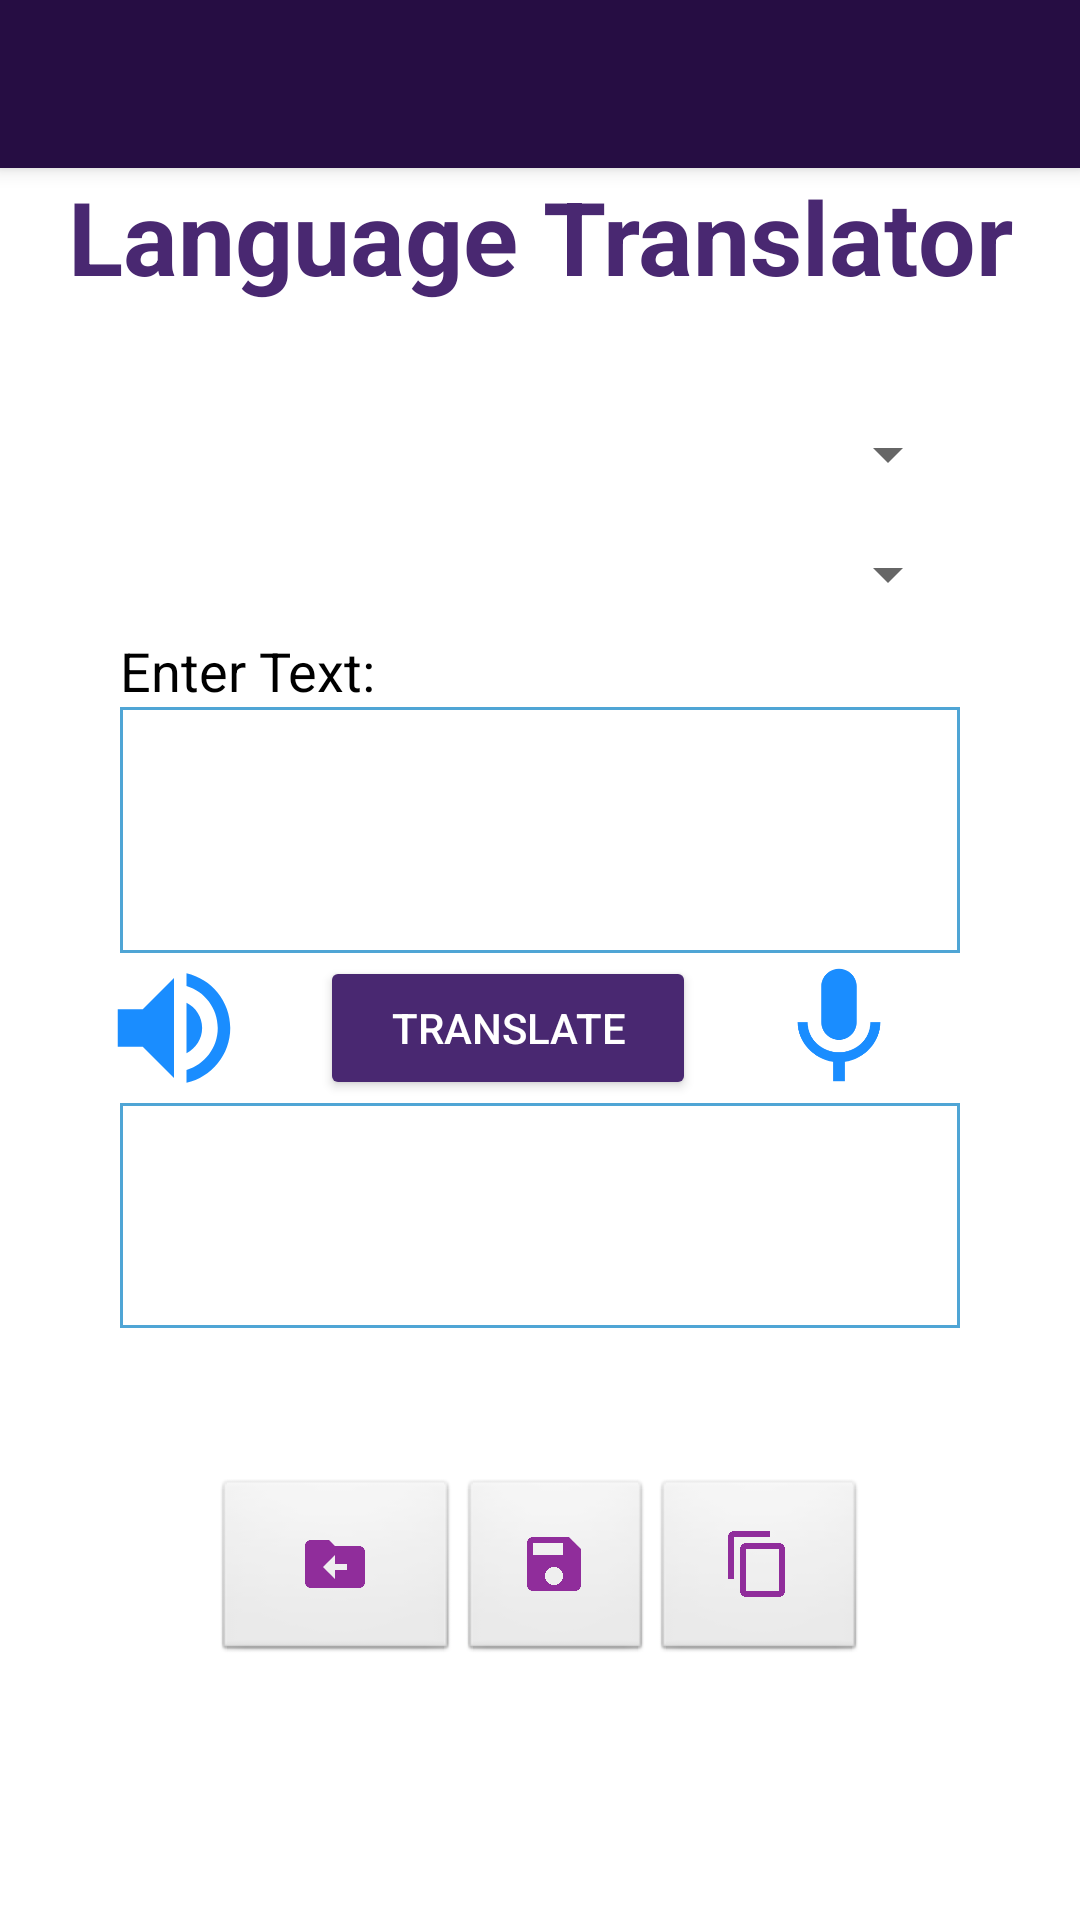

Point at icon controls on the screen. Image size 1080*1920, points as point (x, y).
drive file move rtl: point (335, 1566)
mic: point (839, 1025)
save: point (555, 1566)
sound: point (174, 1028)
